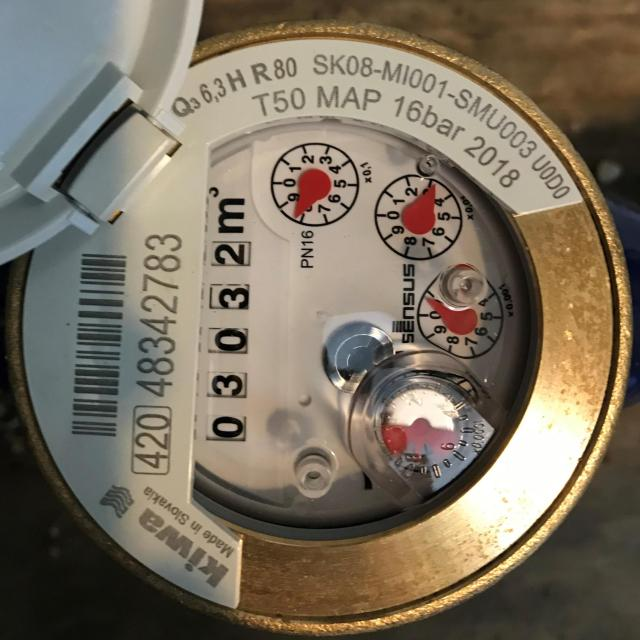gaz_meter: (18, 20, 640, 640)
indication: (192, 227, 262, 455)
